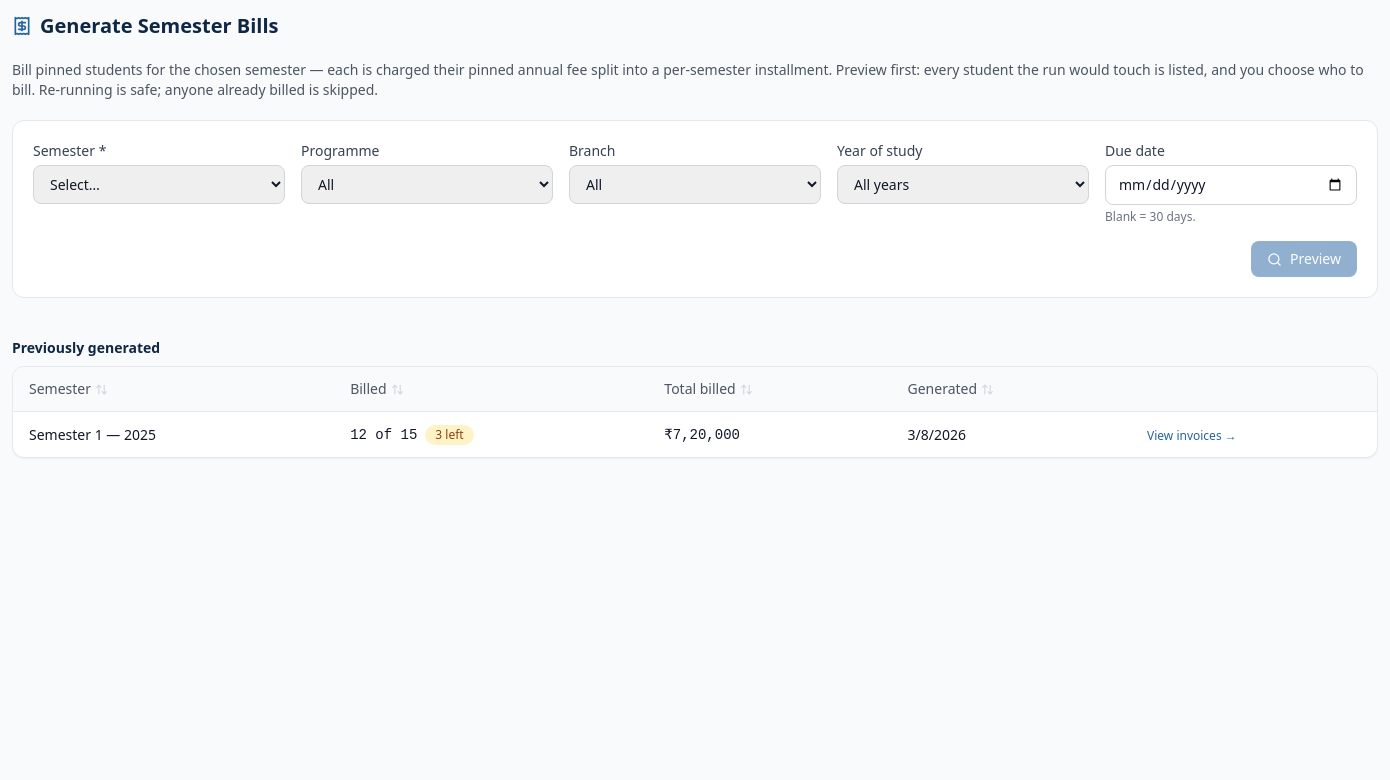
<GenerateBillsPage /> — preview table › filters the visible rows by search without refetching
The image size is (1390, 780).
Select "Semester 1 — 2025 (active)" in the dropdown labelled "Semester *" at [159, 184], box [33,165,285,204]
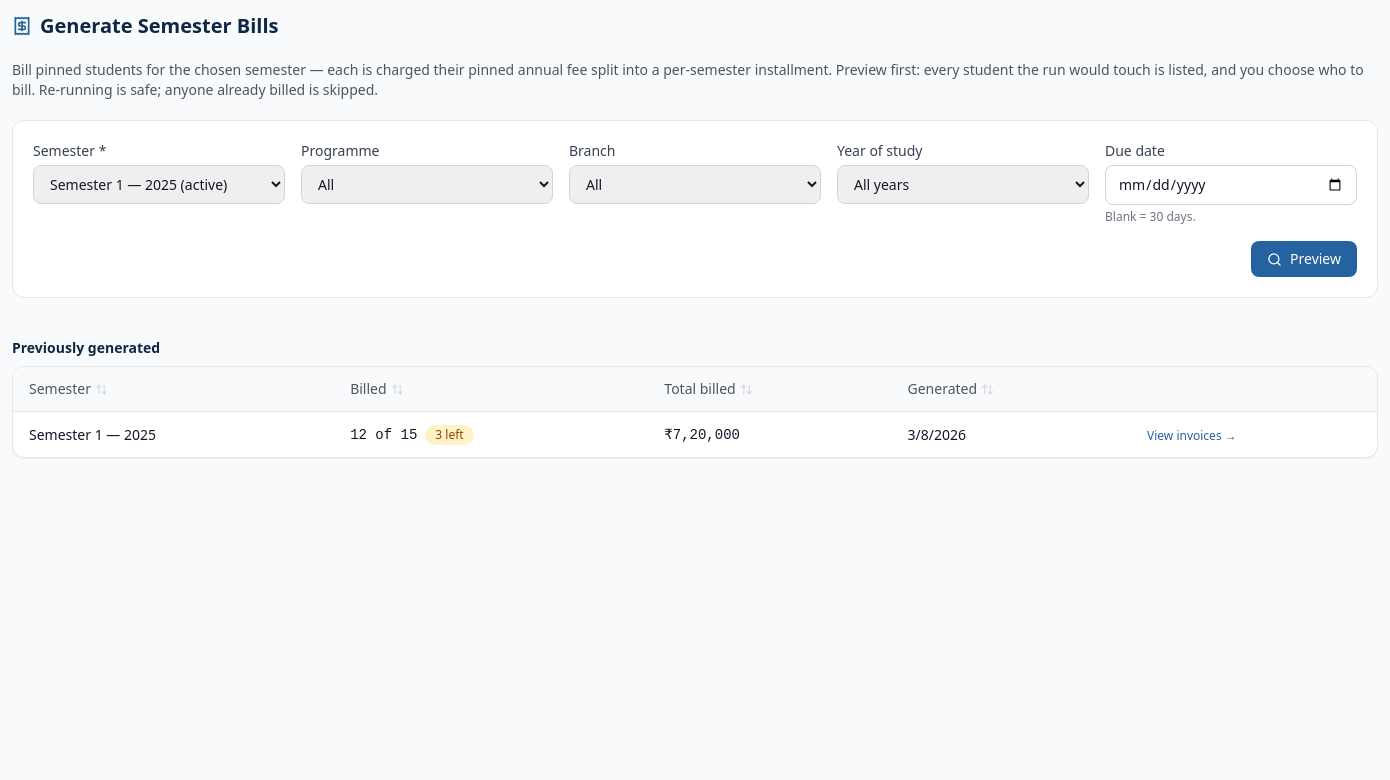
Click the button "Preview".
click(1304, 259)  # box [1251,241,1357,277]
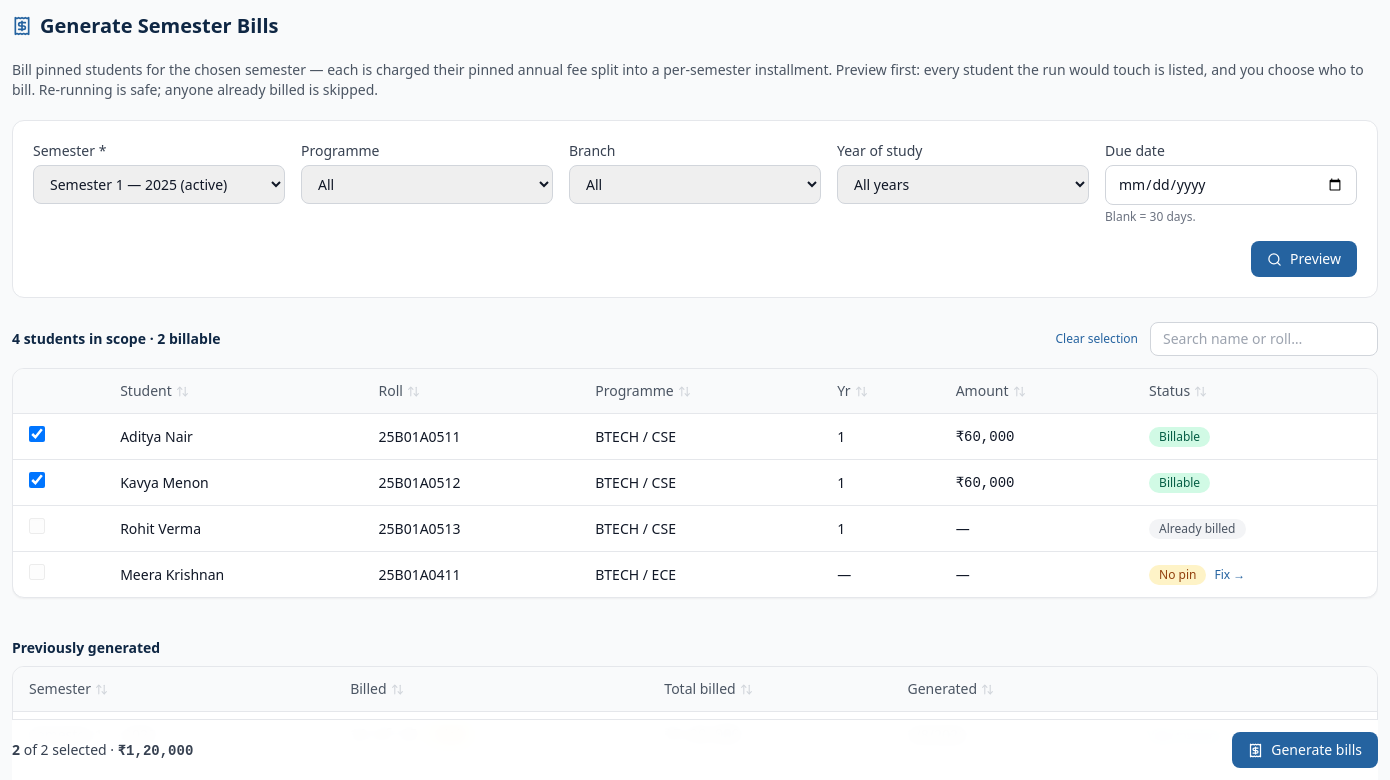
Expected: the text "Aditya Nair" is shown, [104,414,362,460]
Type "kavya" into the search field named "Search students".
click(1264, 339); type("kavya")  # box [1150,322,1378,356]
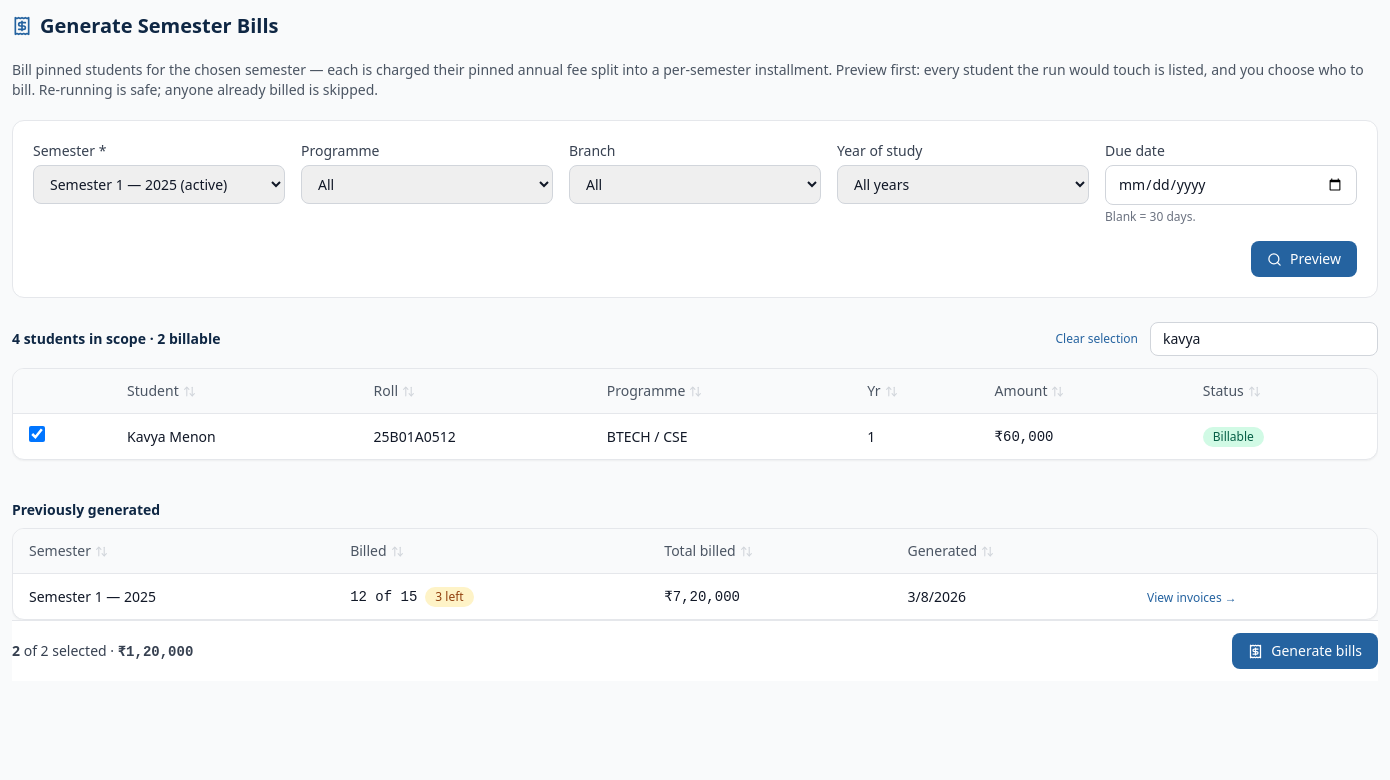
Expected: the text "Kavya Menon" is shown, [111,414,358,459]
Expected: the text "Aditya Nair" is gone
